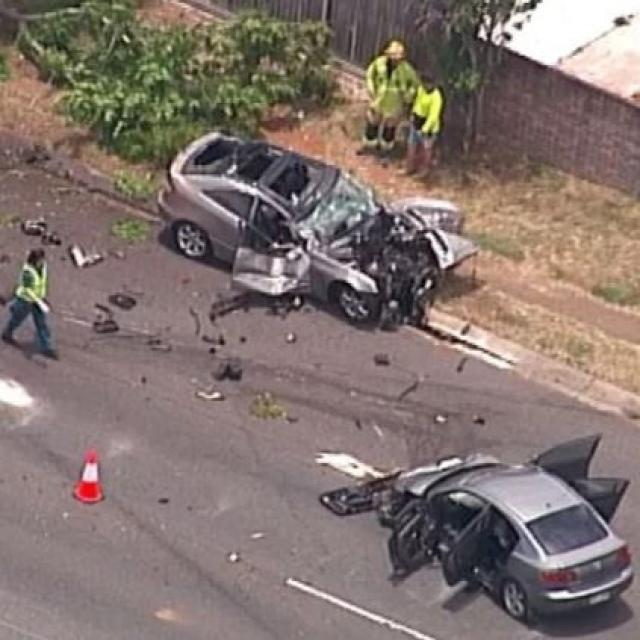traffic_incident: (152, 116, 474, 344), (383, 417, 635, 622)
